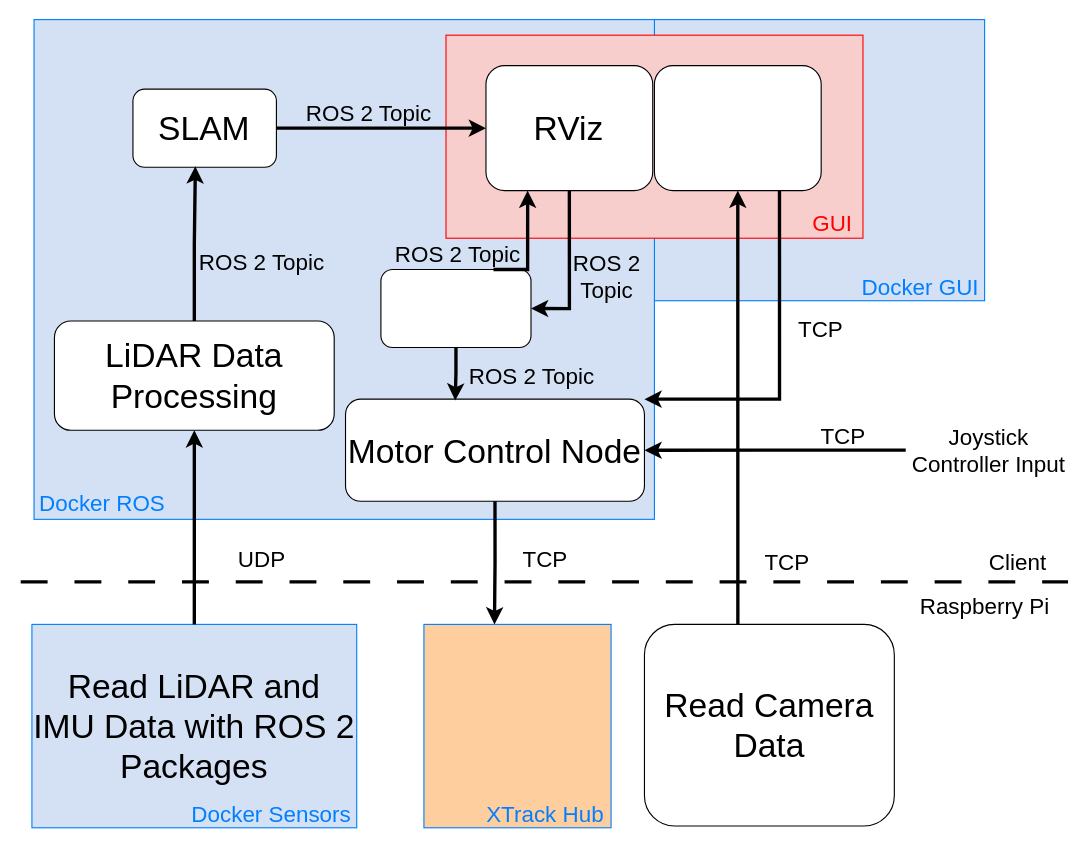
Image size: 1092x857. Some labels were removed from this diagram. Here are the shapes that lost their labels. From the top down, the box of each, then its label:
(653, 65, 821, 191): Web Interface
(380, 268, 531, 348): Nav2
(423, 623, 611, 828): ESC handling
